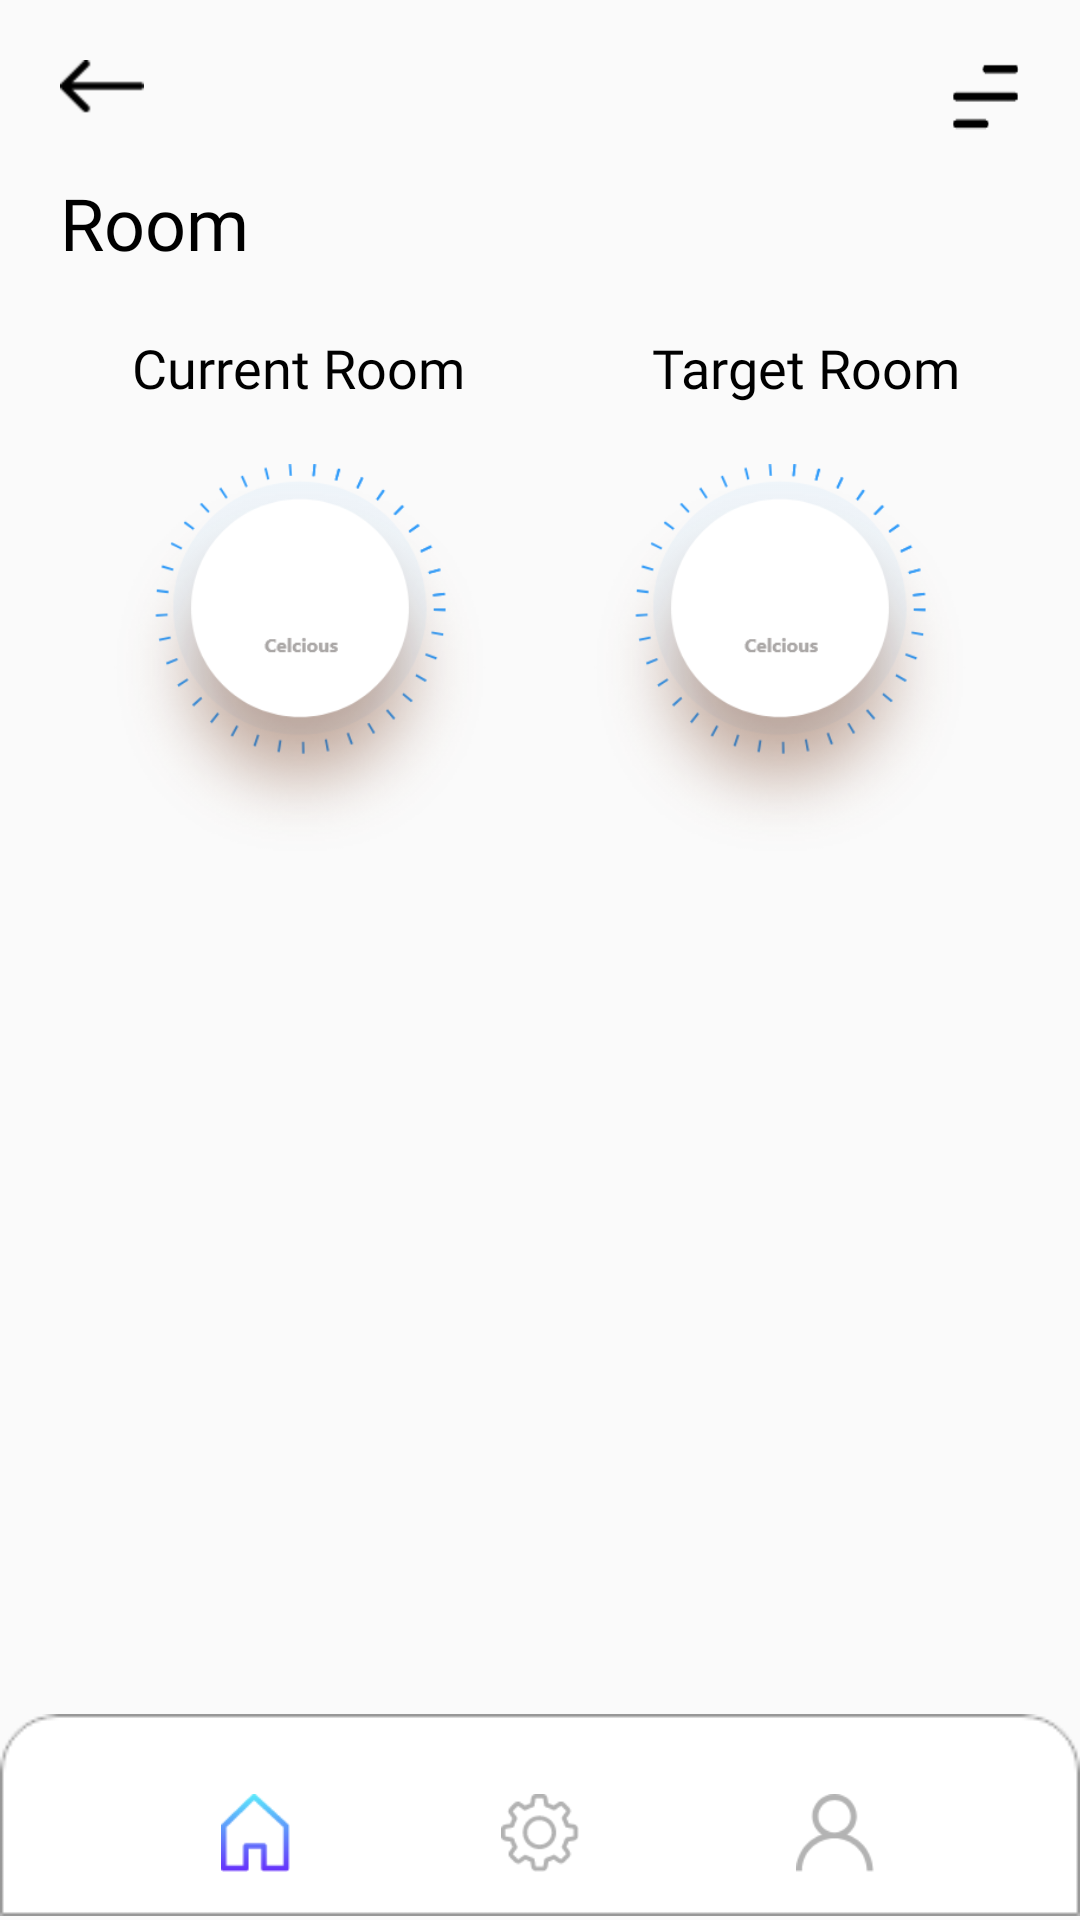

Icons on this 1080 x 1920 Android screen, each with the point to tap as point (x, y):
home: point (255, 1833)
left arrow: point (102, 86)
settings: point (539, 1832)
user: point (834, 1832)
